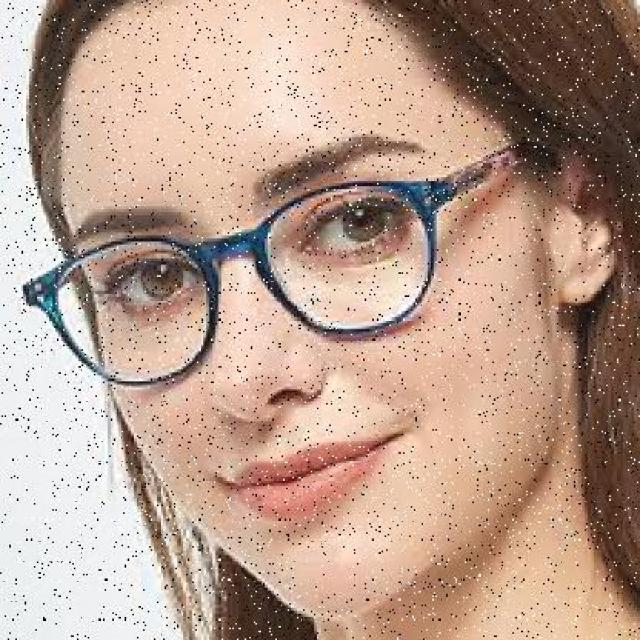glasses: (10, 157, 465, 400)
